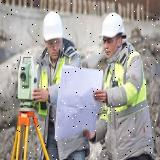Helmet: (98, 11, 126, 37), (43, 10, 63, 40)
Vest: (102, 49, 148, 140), (38, 49, 77, 123)
